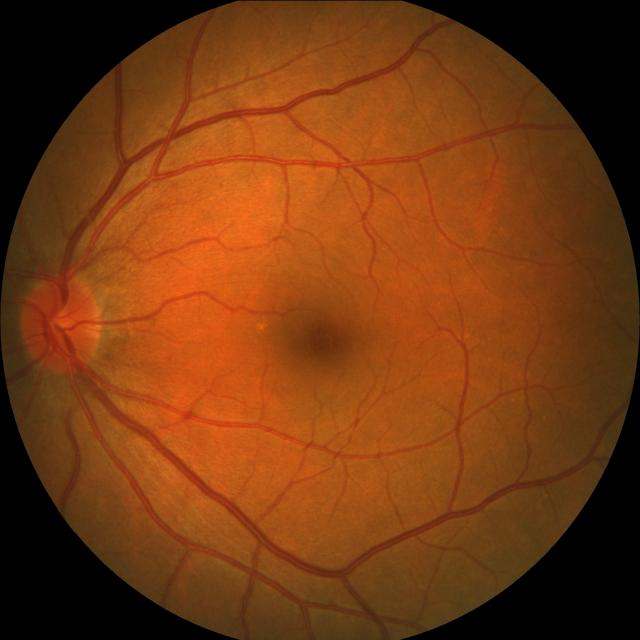OC: (41, 302, 81, 346)
OD: (21, 270, 108, 372)
